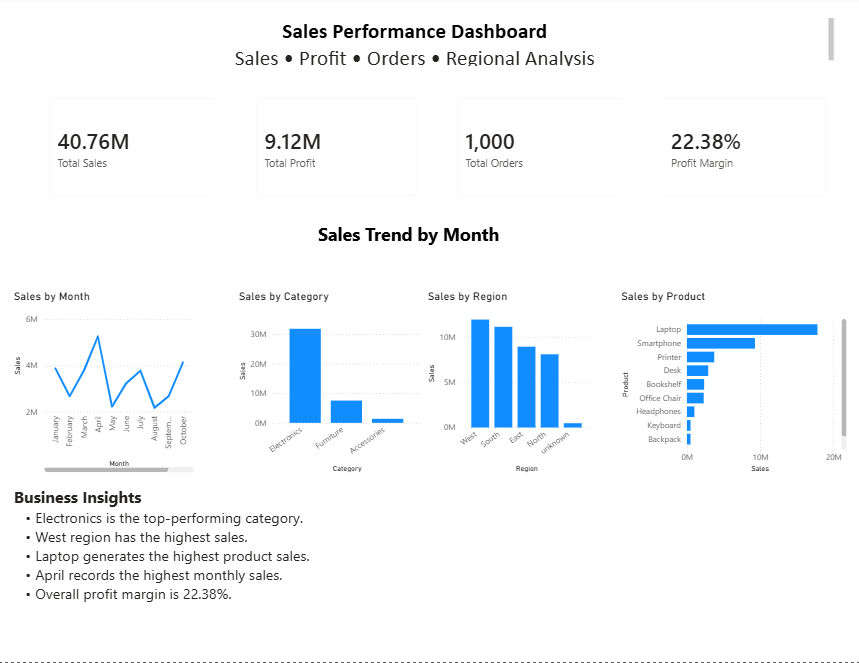

What the dashboard file says about the page in this screenshot:
{"tool":"powerbi","page":{"name":"Page 1","canvas":[1299,1000],"ordinal":0},"visuals":[{"type":"cardVisual","fields":{"Data":["Sum(cleaned_sales_data.Sales)"]},"box":[60.5,136.1,279.7,181.4],"z":0},{"type":"cardVisual","fields":{"Data":["Sum(cleaned_sales_data.Profit)"]},"box":[370.4,136.1,275.9,181.4],"z":1000},{"type":"cardVisual","fields":{"Data":["cleaned_sales_data.Total Orders"]},"box":[672.8,136.1,279.7,181.4],"z":2000},{"type":"cardVisual","fields":{"Data":["cleaned_sales_data.Profit Margin Display"]},"box":[980.8,136.1,279.7,181.4],"z":3000},{"type":"lineChart","fields":{"Category":["cleaned_sales_data.Order_Date.Variation.Date Hierarchy.Month","cleaned_sales_data.Order_Date.Variation.Date Hierarchy.Day"],"Y":["Sum(cleaned_sales_data.Sales)"]},"box":[20.8,440.3,280,280],"z":4000},{"type":"clusteredColumnChart","fields":{"Category":["cleaned_sales_data.Category"],"Y":["Sum(cleaned_sales_data.Sales)"]},"box":[357.2,440.3,283.5,279.7],"z":5000},{"type":"clusteredColumnChart","fields":{"Y":["Sum(cleaned_sales_data.Sales)"],"Category":["cleaned_sales_data.Region"]},"box":[640.6,440.3,255.1,279.7],"z":6000},{"type":"textbox","box":[0,29.2,1259.4,81],"z":7000},{"type":"clusteredBarChart","fields":{"Category":["cleaned_sales_data.Product"],"Y":["Sum(cleaned_sales_data.Sales)"]},"box":[931.7,440.3,347.7,279.7],"z":8000},{"type":"textbox","box":[0,335.1,1241.4,65.2],"z":9000},{"type":"textbox","box":[20.2,730.9,697.2,222.6],"z":9001}]}

Visuals, with their boxes in screenshot pixels (x1, y1, x2, y2), scaled from the page's 1299x1000 canvas onto the 859x663 screenshot:
cardVisual - Sum(cleaned_sales_data.Sales): [left=40, top=90, right=225, bottom=211]
cardVisual - Sum(cleaned_sales_data.Profit): [left=245, top=90, right=427, bottom=211]
cardVisual - cleaned_sales_data.Total Orders: [left=445, top=90, right=630, bottom=211]
cardVisual - cleaned_sales_data.Profit Margin Display: [left=649, top=90, right=834, bottom=211]
lineChart - cleaned_sales_data.Order_Date.Variation.Date Hierarchy.Month x cleaned_sales_data.Order_Date.Variation.Date Hierarchy.Day: [left=14, top=292, right=199, bottom=478]
clusteredColumnChart - cleaned_sales_data.Category x Sum(cleaned_sales_data.Sales): [left=236, top=292, right=424, bottom=477]
clusteredColumnChart - Sum(cleaned_sales_data.Sales) x cleaned_sales_data.Region: [left=424, top=292, right=592, bottom=477]
textbox: [left=0, top=19, right=833, bottom=73]
clusteredBarChart - cleaned_sales_data.Product x Sum(cleaned_sales_data.Sales): [left=616, top=292, right=846, bottom=477]
textbox: [left=0, top=222, right=821, bottom=265]
textbox: [left=13, top=485, right=474, bottom=632]
